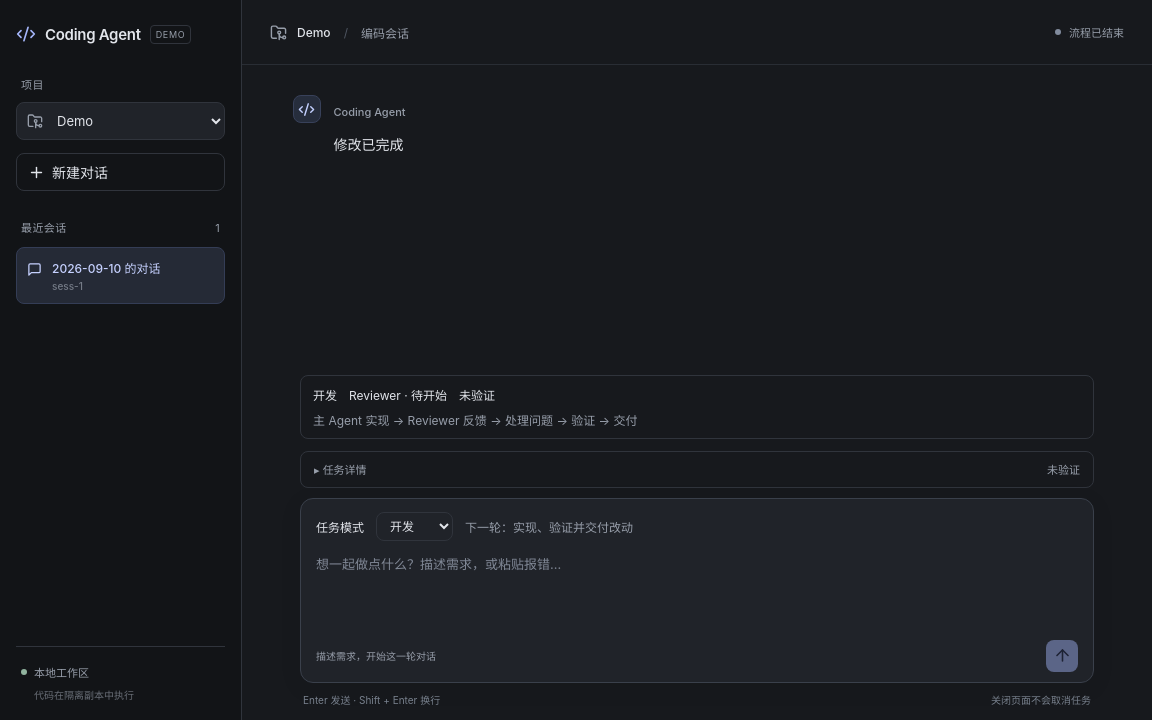
Scenario: chat MVP › replays historical model text once and keeps verification separate from completion
Expected: the text "流程已结束" is shown, [1055,24,1124,40]
Expected: the text "修改已完成" is shown once, [334,136,404,153]
Click the button "▸ 任务详情 未验证".
click(343, 470)  # box [301,452,1093,486]
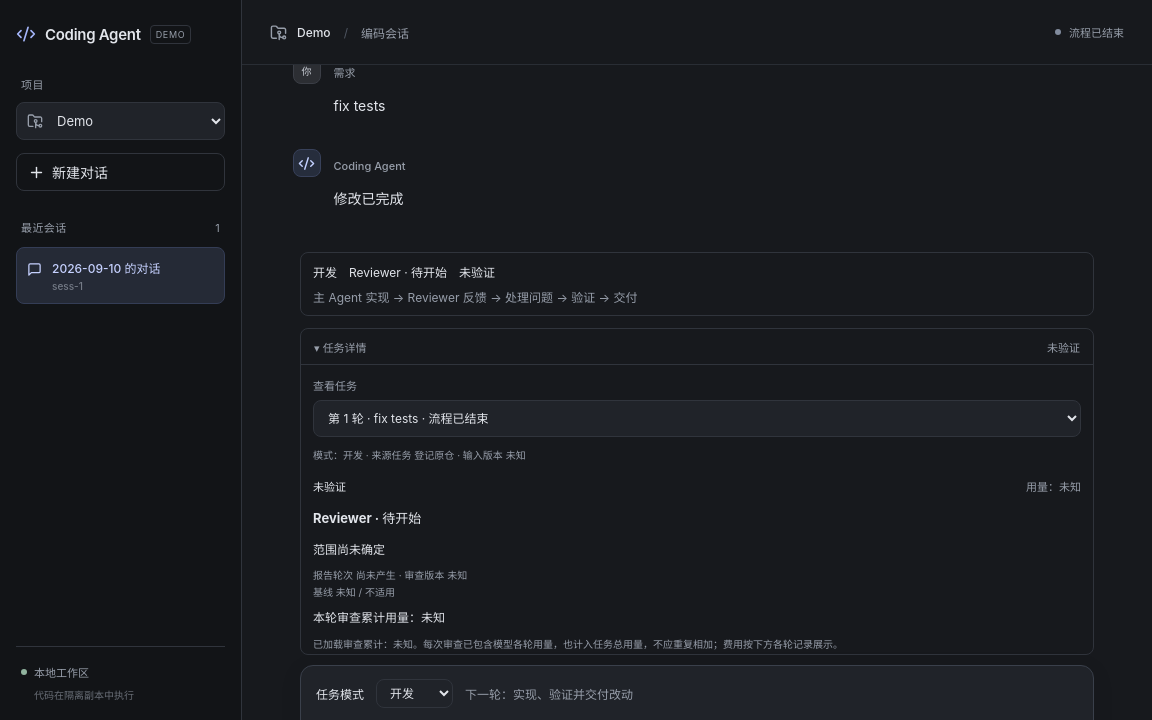
Now the text "用量：未知" is shown, box [1026,478,1081,494]
